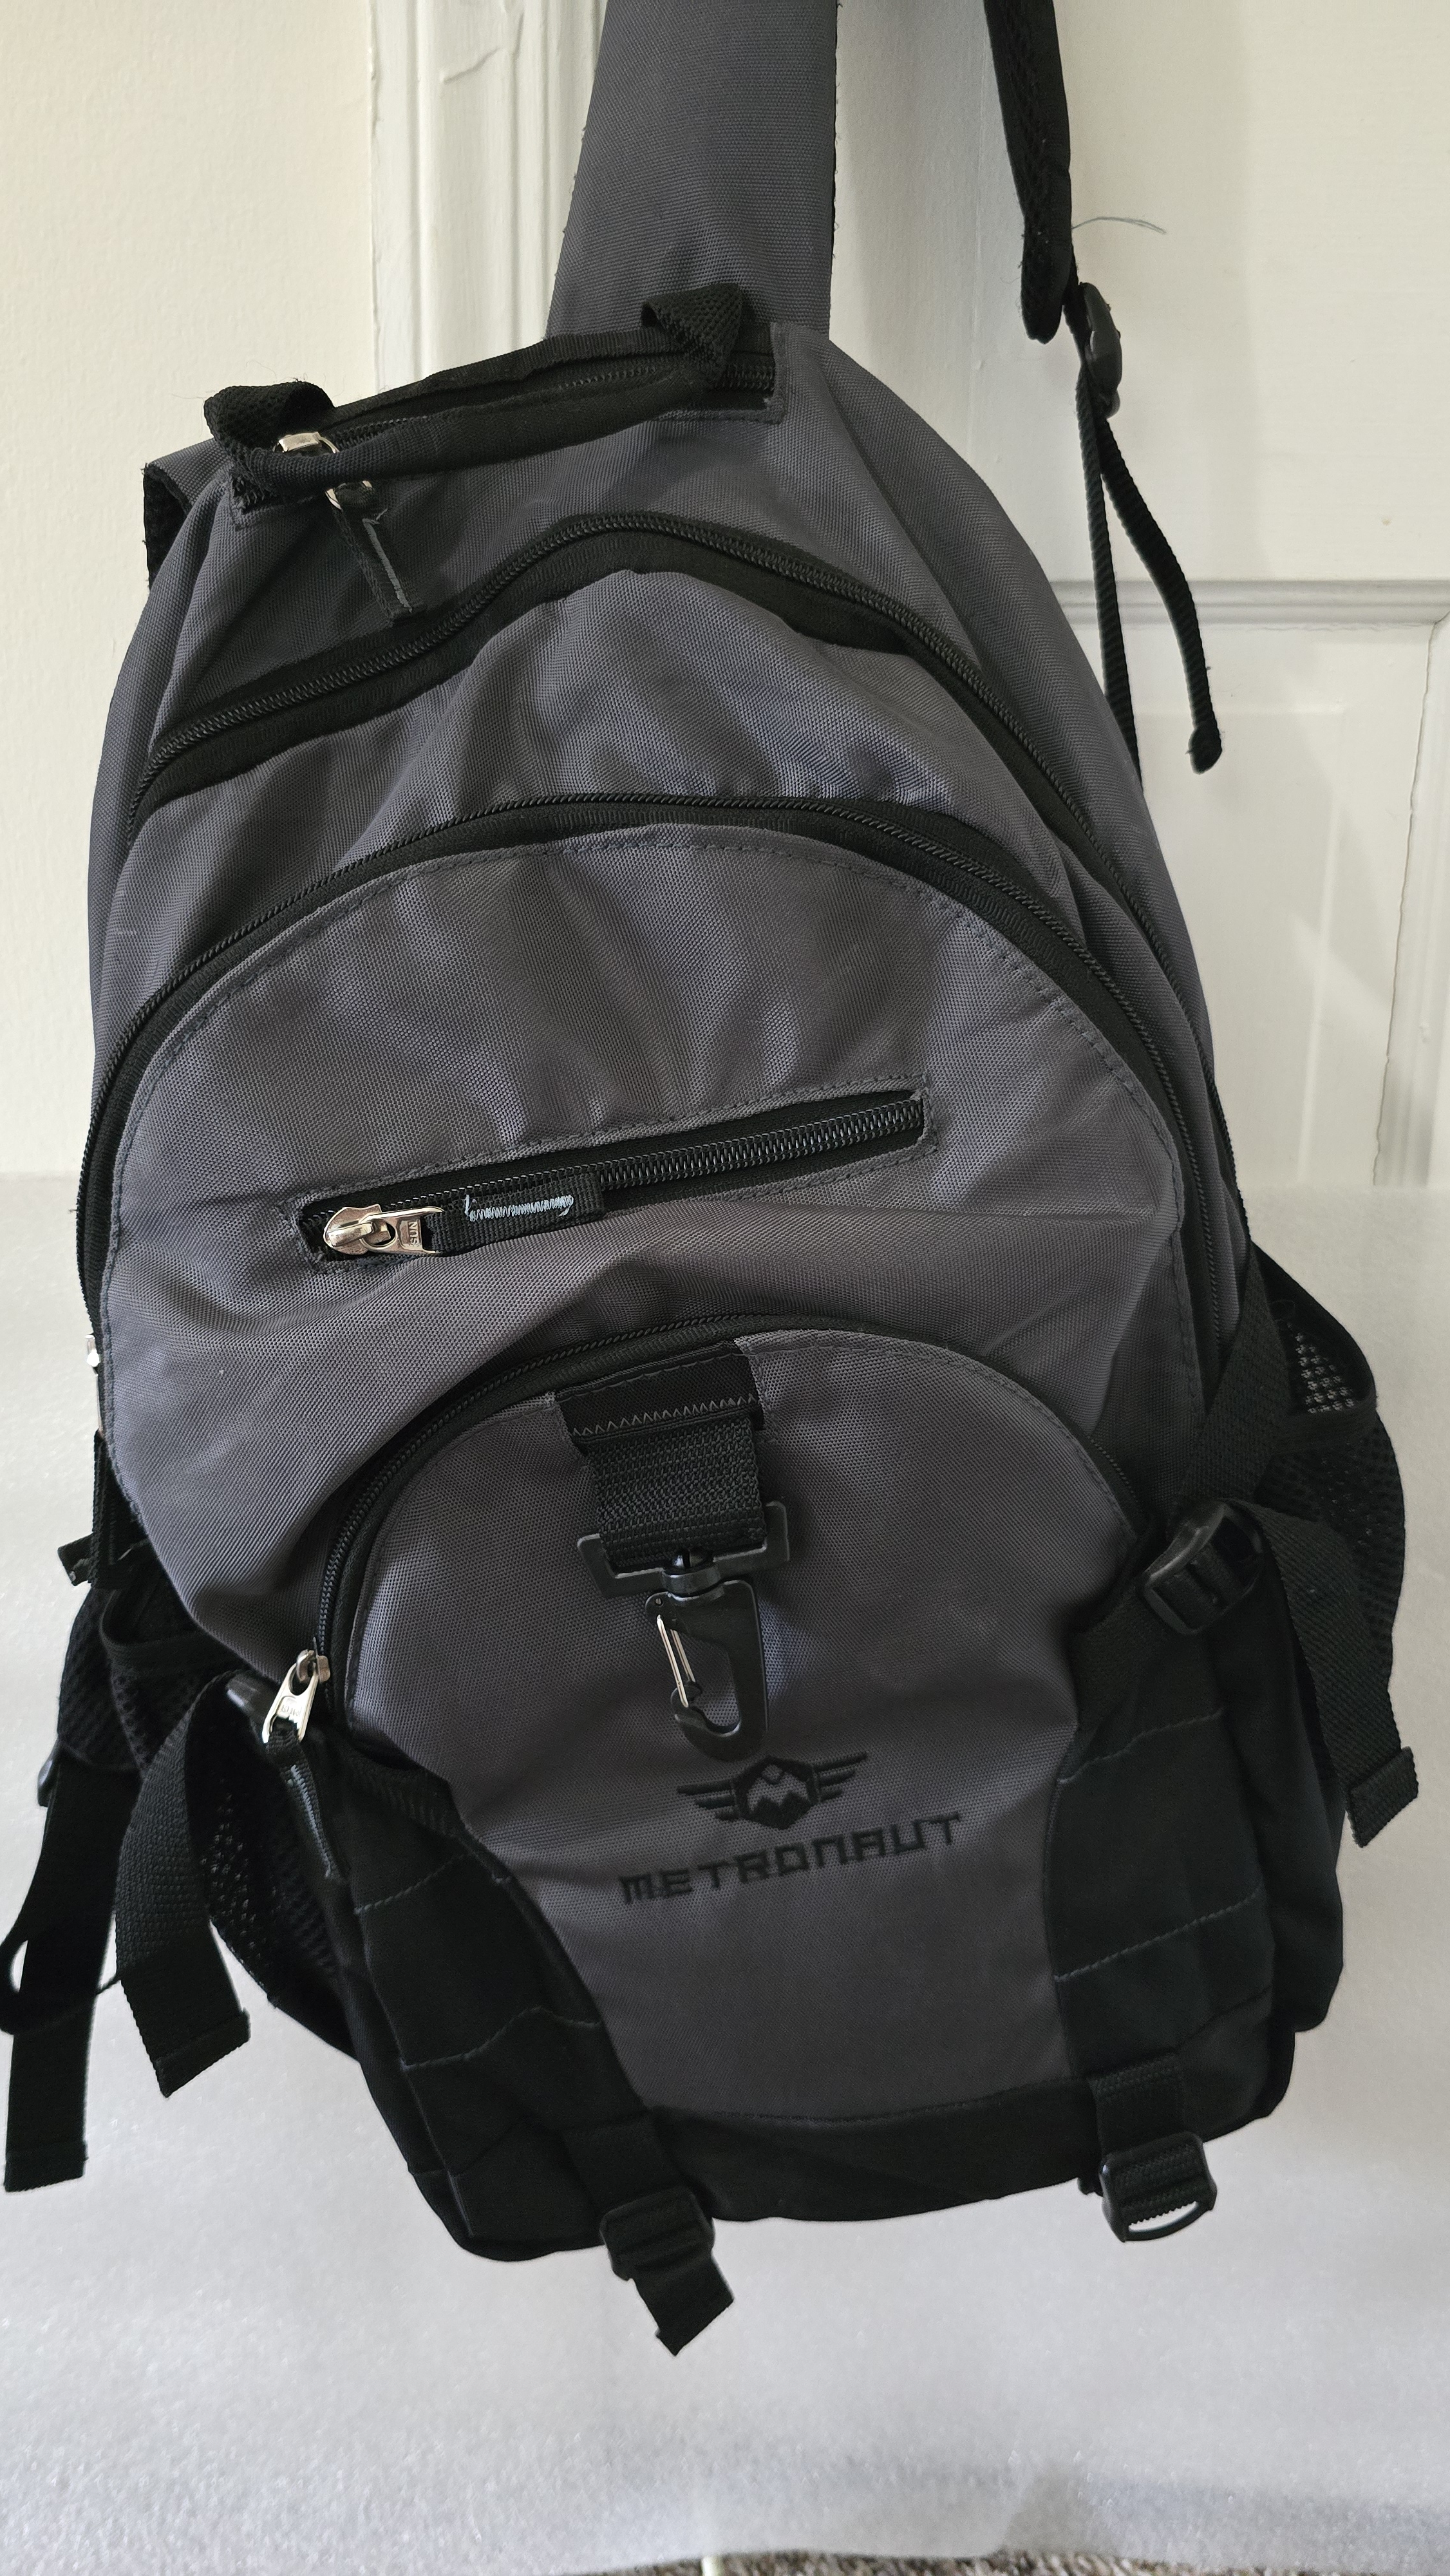bag: (55, 264, 1450, 2265)
